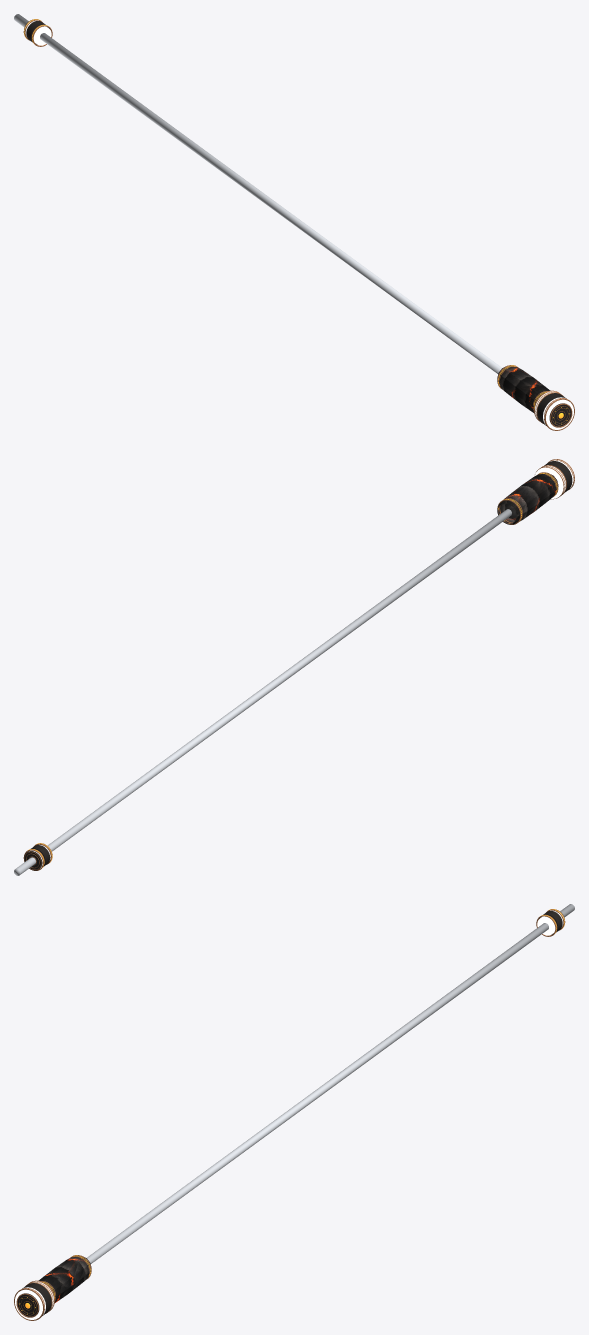
The model's file is fuzeball_rod_5man.glb.
3 renders of one model, top to bottom at view 1: azimuth 30°, elevation 25°; view 2: azimuth 150°, elevation 25°; view 3: azimuth 330°, elevation 25°, orthographic.
Visible parts, largest first — view 1: rod5_bar.002, rod5_handle_solar; view 2: rod5_bar.002, rod5_handle_solar; view 3: rod5_bar.002, rod5_handle_solar.
Boxes of the visible parts, <box> form: rod5_bar.002: <box>14,14,502,373</box>; rod5_handle_solar: <box>497,366,550,412</box>; rod5_bar.002: <box>14,509,511,875</box>; rod5_handle_solar: <box>497,473,558,524</box>; rod5_bar.002: <box>86,904,574,1263</box>; rod5_handle_solar: <box>38,1256,91,1302</box>.
Size of the model in its own units: 3.49 by 3.49 by 109.
Materials: 6 (1 with a texture image).
